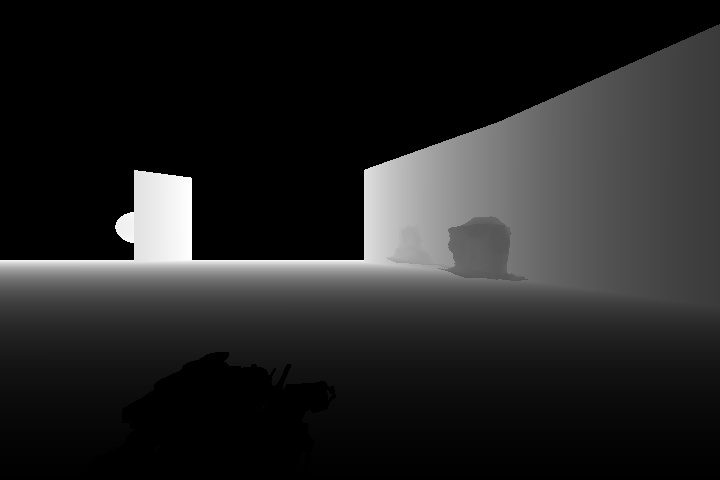green rock: (436, 213, 531, 286)
mushroom: (111, 208, 135, 246)
